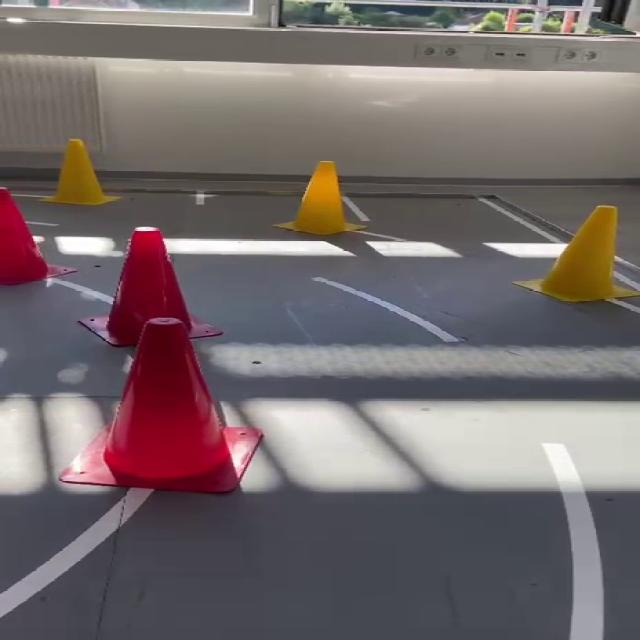Cone-red: (59, 318, 261, 492), (79, 227, 221, 347), (0, 188, 48, 285)
Cones-yellow: (520, 206, 639, 302), (277, 161, 363, 235), (43, 139, 119, 205)
